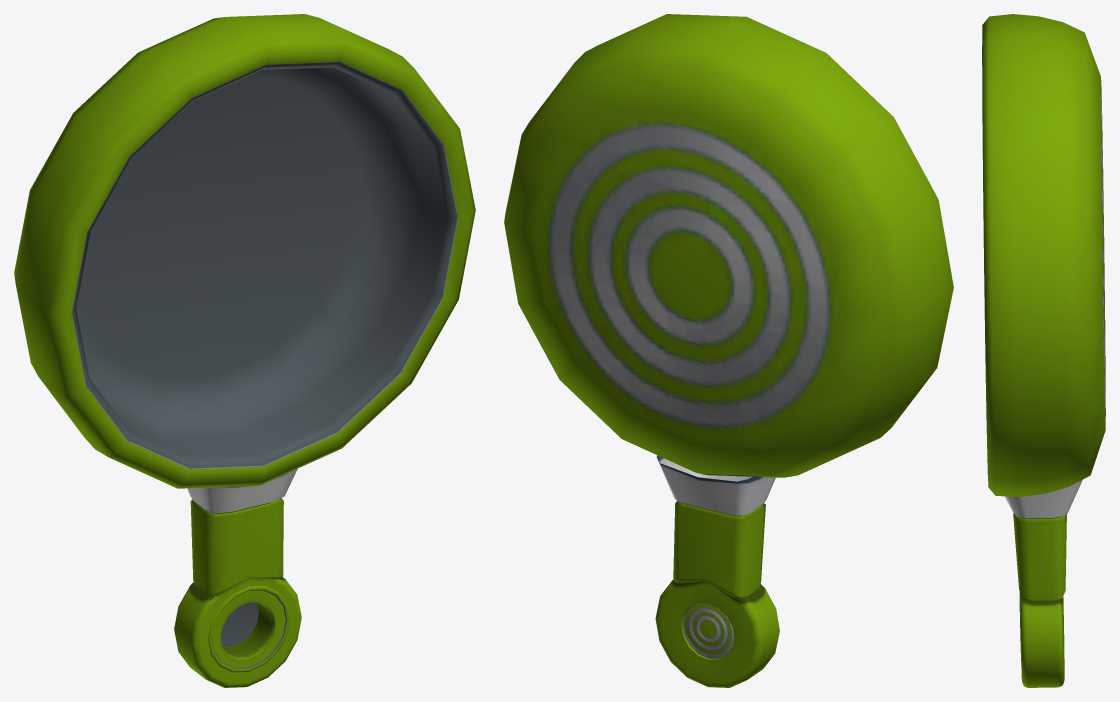
File: pan.fbx
The picture shows the model from 3 angles, left to right: view 1: azimuth 30°, elevation 25°; view 2: azimuth 150°, elevation 25°; view 3: azimuth 270°, elevation 25°; orthographic projection. The views are drawn at different scales.
Parts seen in each view (by area): view 1: pan; view 2: pan; view 3: pan.
Boxes of the visible parts, left/top/right/bottom form: pan: left=14, top=14, right=475, bottom=687; pan: left=504, top=14, right=953, bottom=687; pan: left=982, top=14, right=1105, bottom=687.
Bounding box in the file's own units: 65.71 × 96.62 × 16.8.
